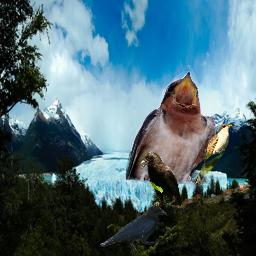Crow: (100, 205, 167, 253), (139, 151, 183, 210)
Cuckoo: (193, 122, 235, 187)
Swallow: (126, 71, 216, 191)
